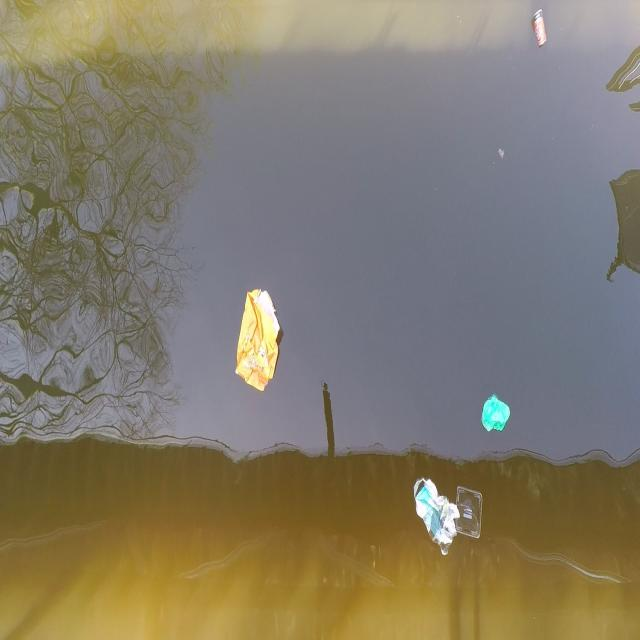Autre plastique: (456, 483, 490, 550)
Non plastique: (532, 4, 550, 54)
Sac plastique: (229, 280, 288, 401), (410, 475, 457, 560), (477, 387, 515, 444)
